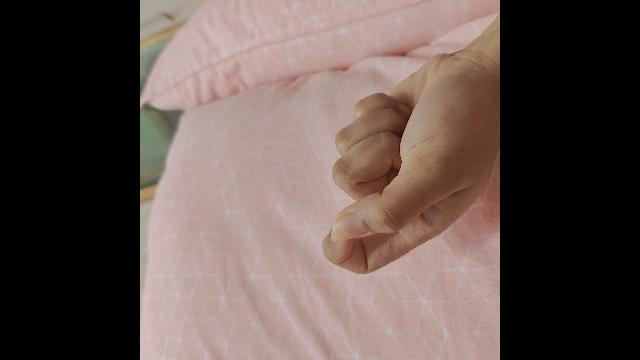kapitth: (323, 27, 488, 273)
